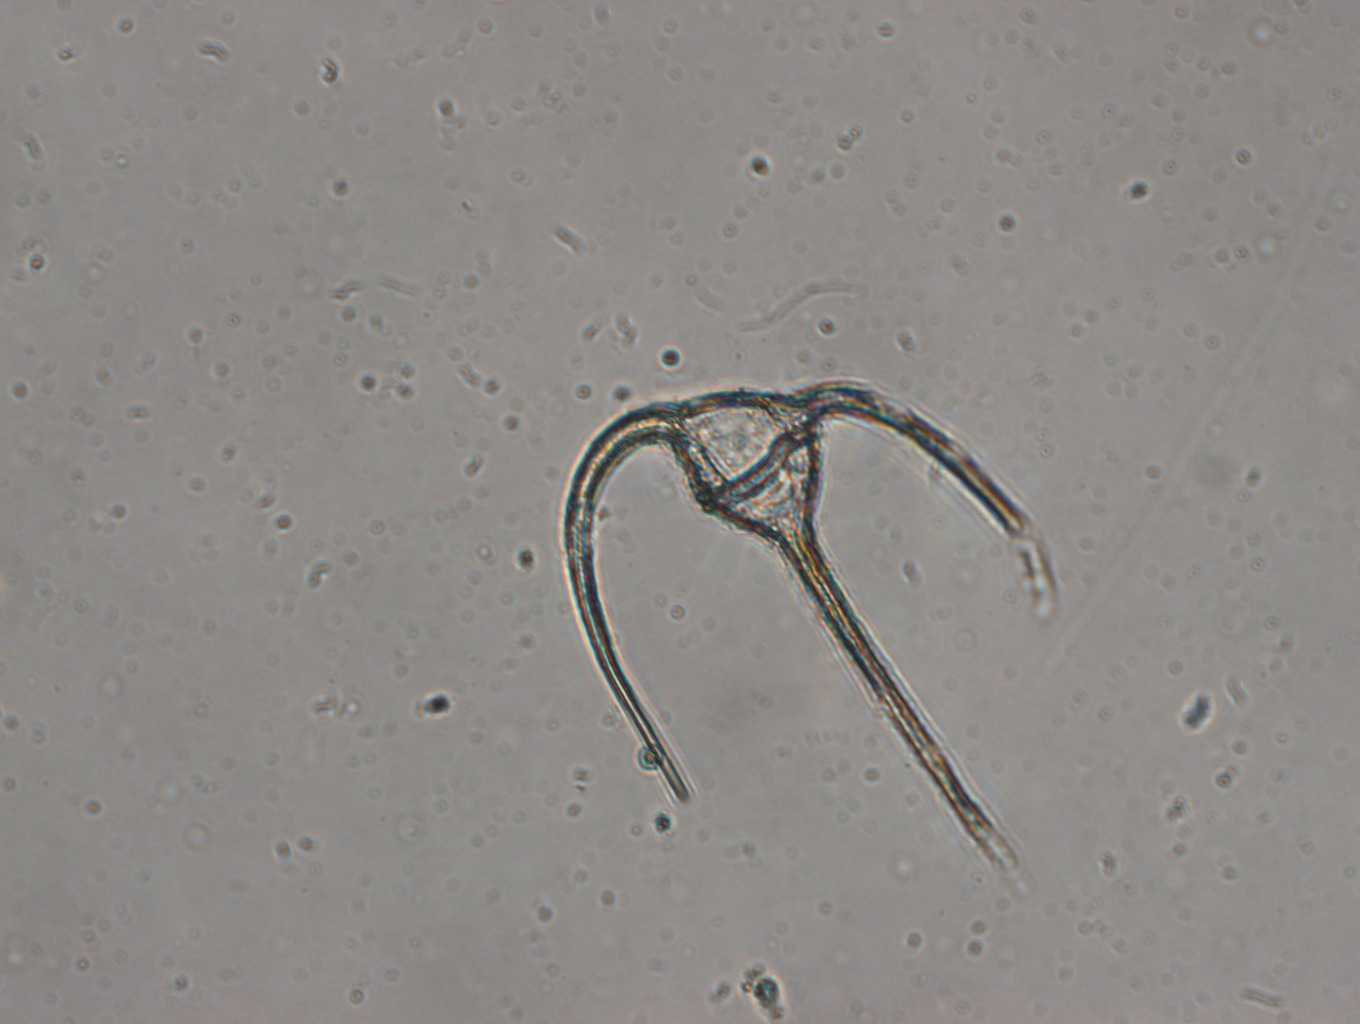ceratium trichoceros: (545, 370, 1051, 894)
